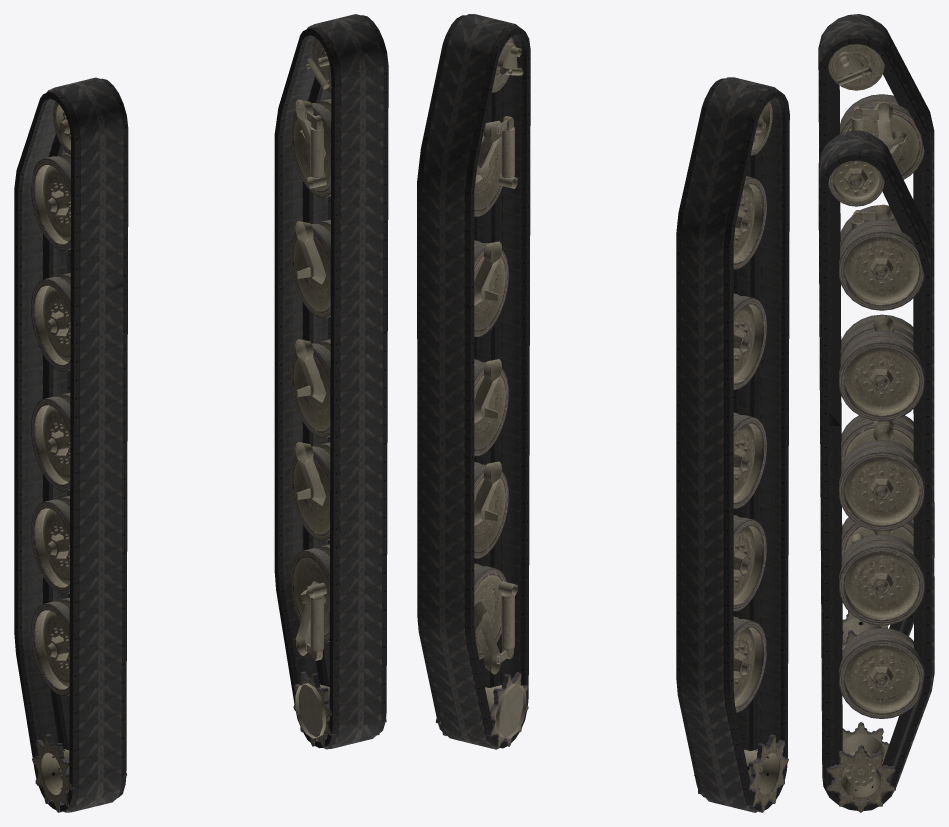
The model's file is Chassis.glb.
3 views of the same model, side by side, from view 1: azimuth 30°, elevation 25°; view 2: azimuth 150°, elevation 25°; view 3: azimuth 270°, elevation 25° (orthographic). The views are drawn at different scales.
Visible parts, largest first — view 1: set_2_group_0, set_3_group_0, set_0_group_0, set_1_group_0; view 2: set_2_group_0, set_3_group_0, set_0_group_0, set_1_group_0; view 3: set_0_group_0, set_3_group_0, set_1_group_0, set_2_group_0.
Boxes of the visible parts, x1,y1,x2,y2 form: set_2_group_0: (14,77,128,812); set_3_group_0: (274,14,388,749); set_0_group_0: (290,37,386,748); set_1_group_0: (31,101,126,812); set_2_group_0: (676,77,789,812); set_3_group_0: (417,14,530,749); set_0_group_0: (435,37,528,748); set_1_group_0: (694,101,788,812); set_0_group_0: (826,160,924,812); set_3_group_0: (818,130,934,810); set_1_group_0: (828,44,924,650); set_2_group_0: (818,14,934,641).
Size of the model in its own units: 3.13 by 6.84 by 1.09.
Materials: 4 (4 with a texture image).
